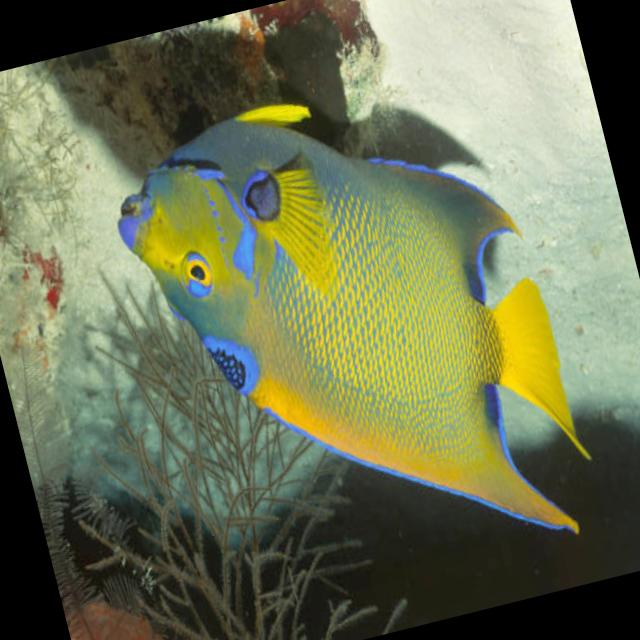AngelFish: (94, 46, 606, 627)
